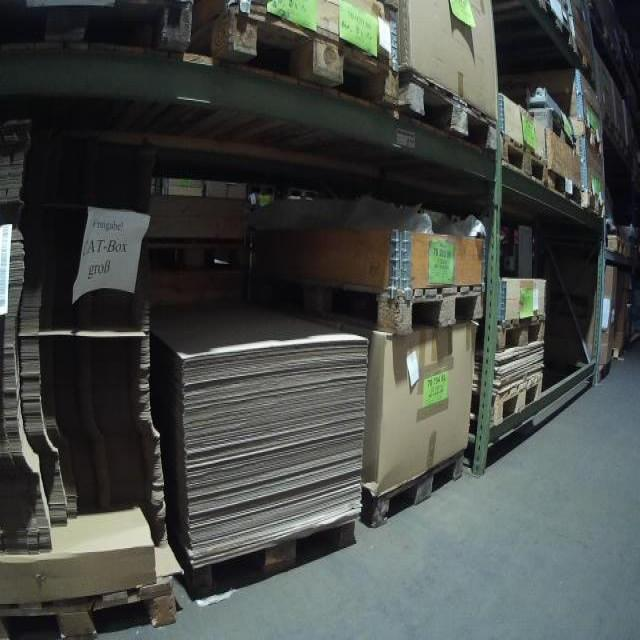pallet: (196, 0, 401, 112), (253, 275, 483, 340), (188, 516, 358, 602), (0, 572, 177, 640), (0, 0, 194, 55), (365, 446, 467, 531), (400, 68, 499, 152), (138, 238, 251, 277), (490, 367, 544, 430), (498, 133, 549, 188), (495, 312, 547, 357), (535, 0, 574, 48), (567, 114, 604, 157), (547, 165, 580, 203), (571, 38, 593, 81), (579, 187, 607, 219), (606, 231, 626, 258)
